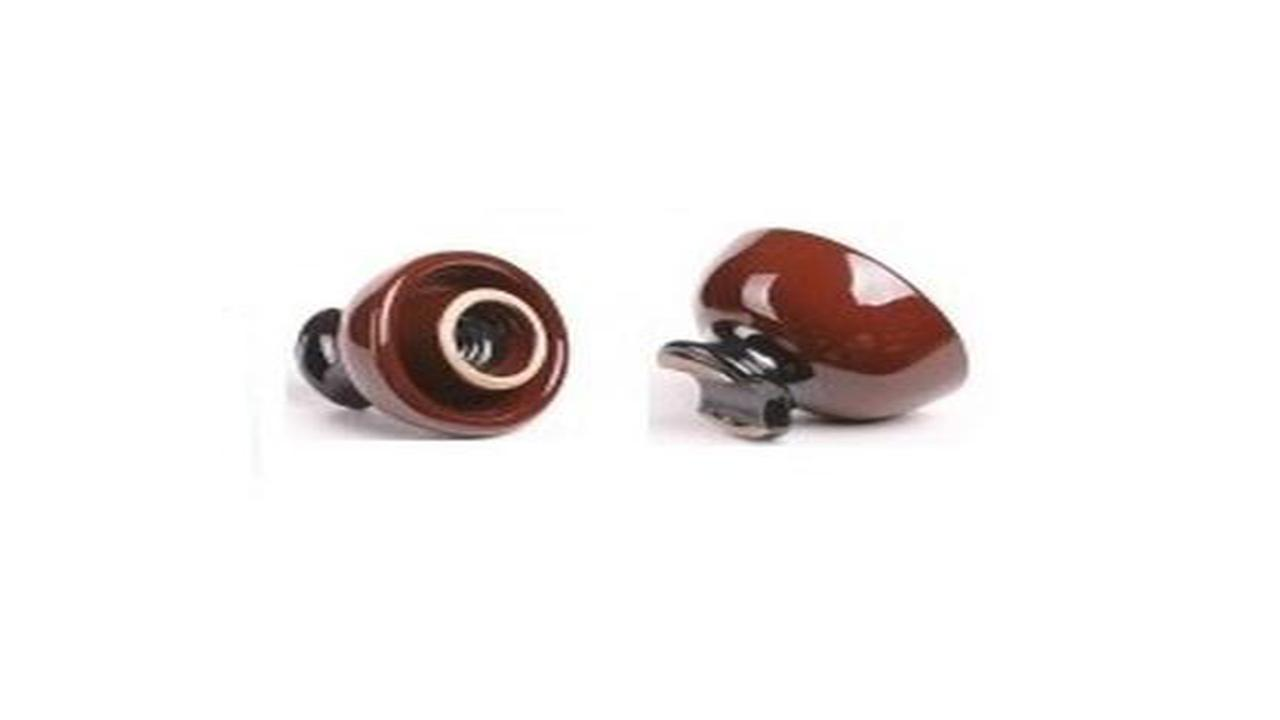insulator_pin: (276, 236, 610, 438)
